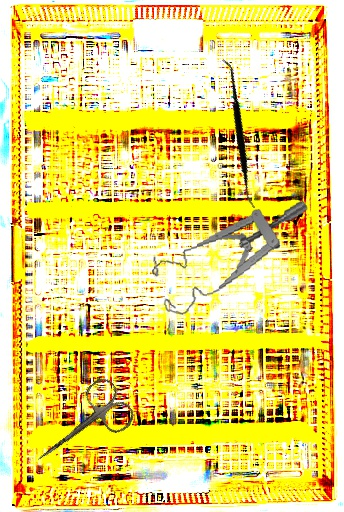Iris Scissors: (21, 373, 139, 482)
Spatula Surgical: (165, 58, 312, 210)
Speculum: (144, 197, 322, 320)
